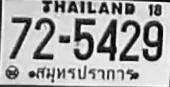2: (32, 16, 54, 60), (119, 20, 139, 60)
4: (96, 18, 116, 60)
5: (73, 18, 95, 60)
7: (9, 16, 31, 58)
9: (142, 20, 162, 61)
SPK: (36, 64, 136, 83)
